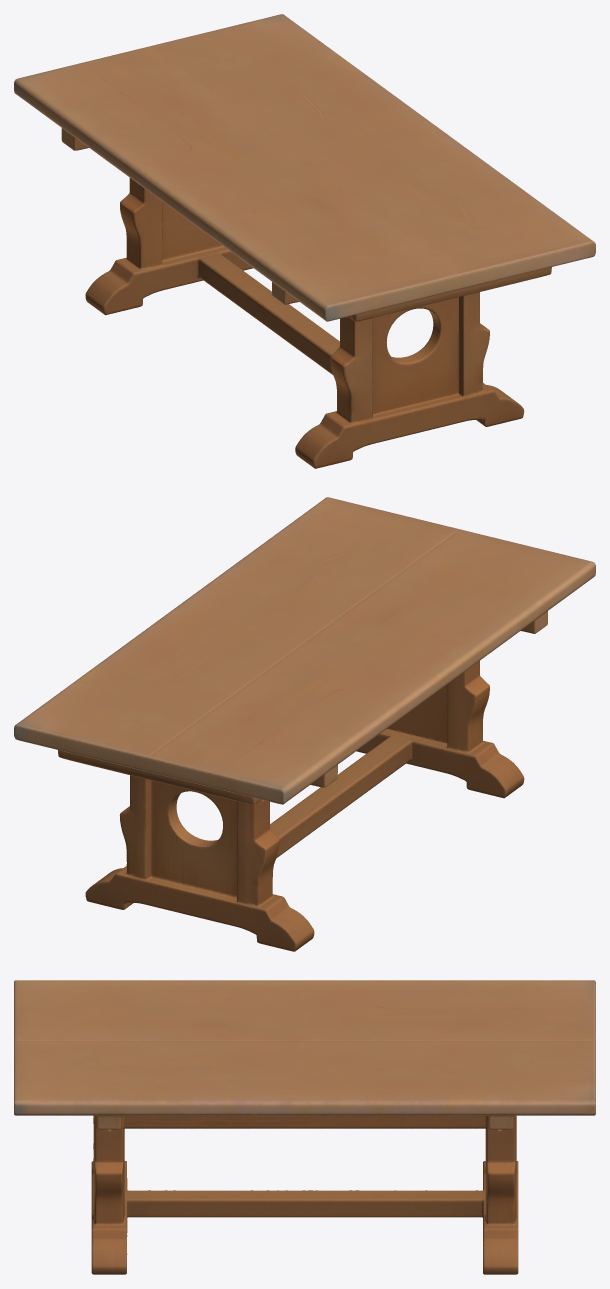
Rendered from detailed_realistic_model_grandoaktable_01.glb.
3 views of the same model, one above another, from view 1: azimuth 30°, elevation 25°; view 2: azimuth 150°, elevation 25°; view 3: azimuth 270°, elevation 25° (orthographic). The views are drawn at different scales.
Visible parts, largest first — view 1: tripo_node_dd444913-9e64-4bc0-905d-d7248fe27667; view 2: tripo_node_dd444913-9e64-4bc0-905d-d7248fe27667; view 3: tripo_node_dd444913-9e64-4bc0-905d-d7248fe27667.
Boxes of the visible parts, bbox=[...] form: tripo_node_dd444913-9e64-4bc0-905d-d7248fe27667: bbox=[14, 14, 595, 468]; tripo_node_dd444913-9e64-4bc0-905d-d7248fe27667: bbox=[14, 497, 595, 951]; tripo_node_dd444913-9e64-4bc0-905d-d7248fe27667: bbox=[14, 980, 595, 1274].
Bounding box in the file's own units: 0.5023 × 0.3546 × 1.
1 material, 1 textured.
